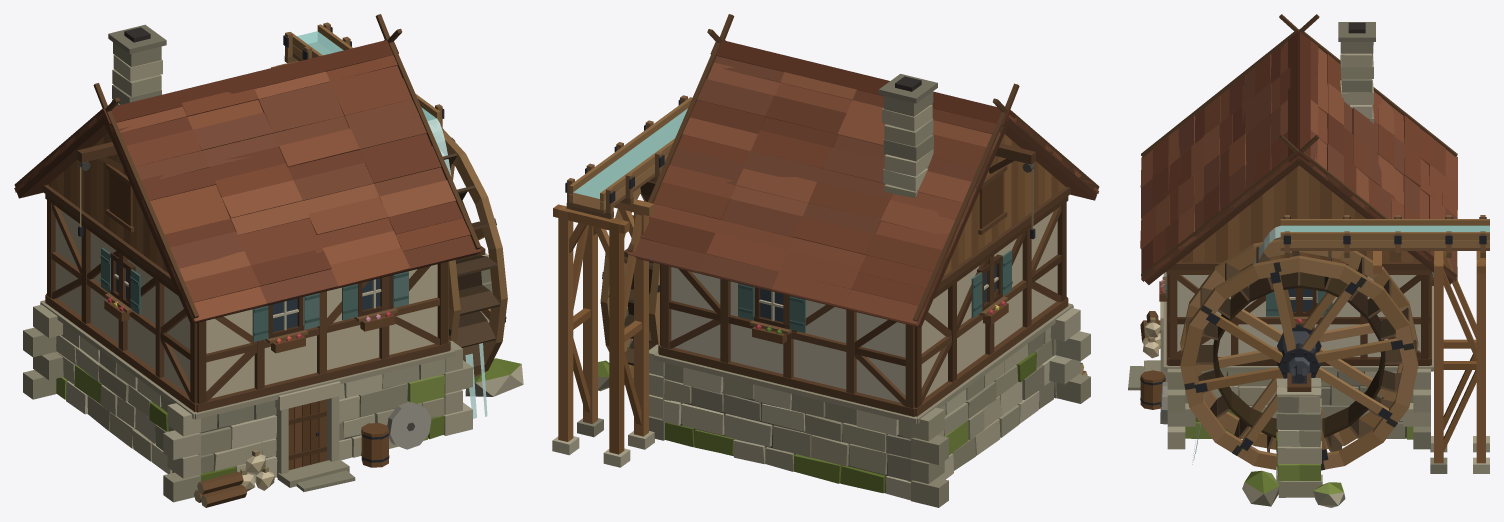
File: river_mill.glb
3 views of the same model, side by side, from view 1: azimuth 30°, elevation 25°; view 2: azimuth 150°, elevation 25°; view 3: azimuth 270°, elevation 25° (orthographic). The views are drawn at different scales.
Parts seen in each view (by area): view 1: river_mill; view 2: river_mill; view 3: river_mill.
Boxes of the visible parts, <box> form: river_mill: <box>14,14,523,507</box>; river_mill: <box>552,14,1099,507</box>; river_mill: <box>1128,14,1489,507</box>.
Size of the model in its own units: 12.63 by 11.31 by 10.63.
